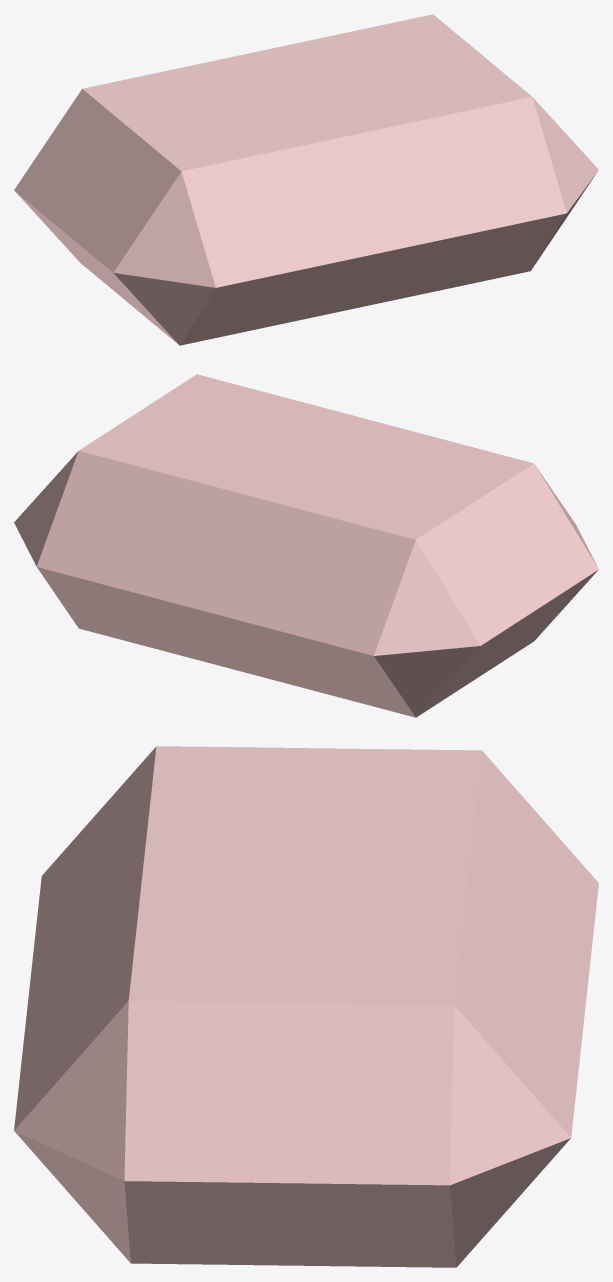
The model's file is SM_Item_Gem_03.glb.
3 views of the same model, one above another, from view 1: azimuth 30°, elevation 25°; view 2: azimuth 150°, elevation 25°; view 3: azimuth 270°, elevation 25° (orthographic). The views are drawn at different scales.
Parts seen in each view (by area): view 1: SM_Item_Gem_03_00; view 2: SM_Item_Gem_03_00; view 3: SM_Item_Gem_03_00.
Boxes of the visible parts, left/top/right/bottom form: SM_Item_Gem_03_00: left=14, top=14, right=598, bottom=345; SM_Item_Gem_03_00: left=14, top=374, right=598, bottom=717; SM_Item_Gem_03_00: left=14, top=746, right=598, bottom=1267.
Size of the model in its own units: 0.1432 by 0.0506 by 0.0999.
Materials: 1 (1 with a texture image).
